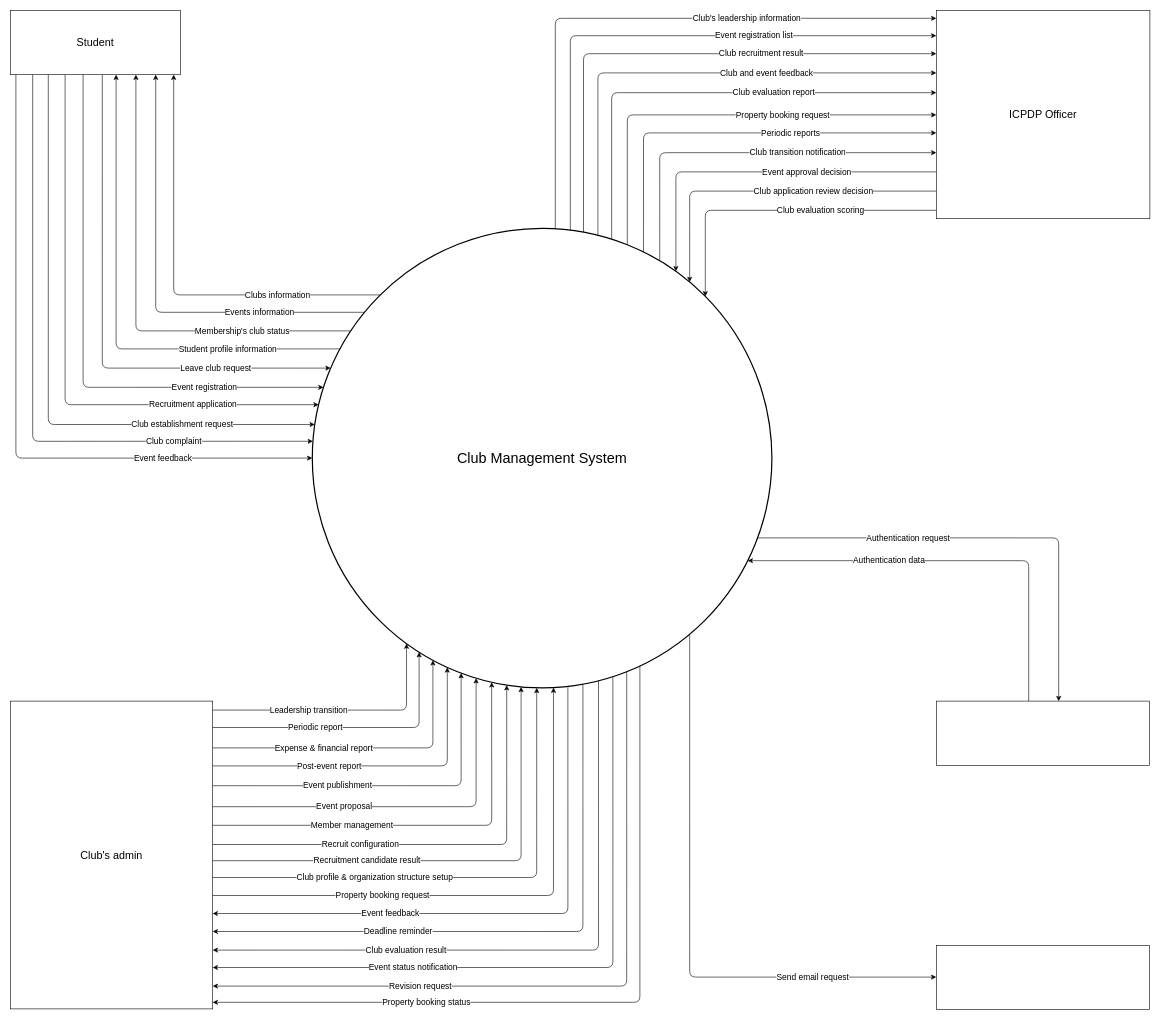
The diagram is 1160 pixels wide and 1020 high, and some of its shapes have lost their labels. Each missing label, with the centre of its shape:
"Google OAuth" belongs at pixel 1042 732.
"Google SMTP Service" belongs at pixel 1042 977.
